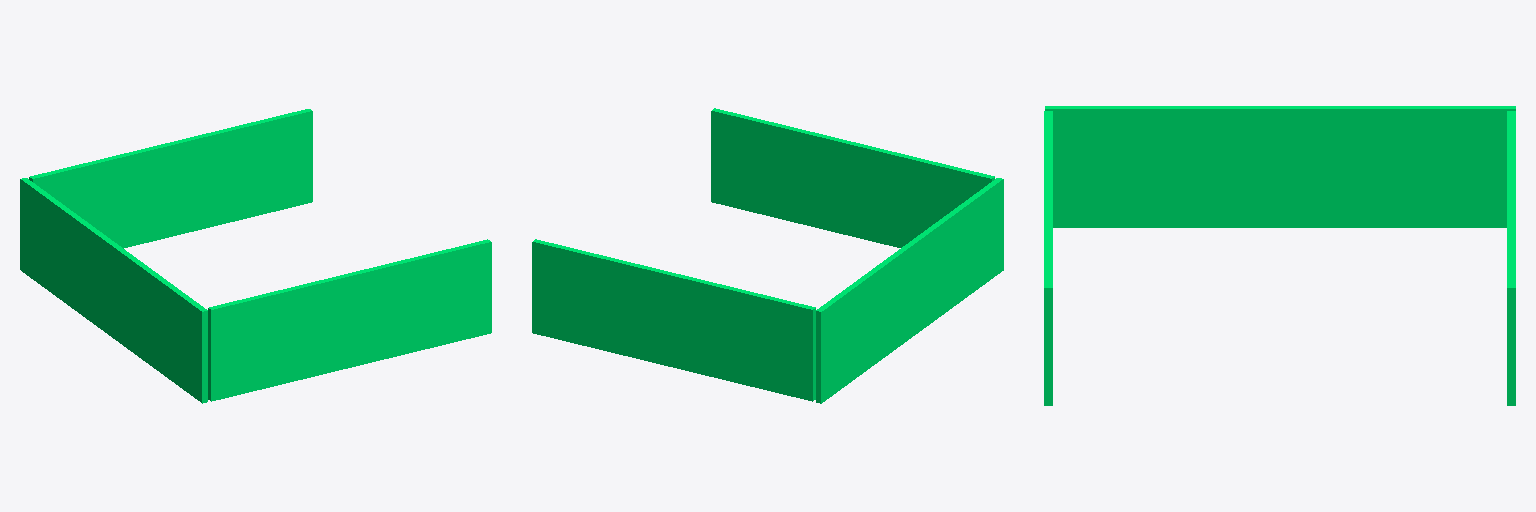
robot.urdf — wall1:
<?xml version="1.0" ?>
<robot name="wall1">
  <material name="neon_green"><color rgba="0 1 0.5 0.6"/></material>
  <link name="back">
    <inertial>
      <mass value="5.0" />
      <!-- center of mass (com) is defined w.r.t. link local coordinate system -->
      <origin xyz="0 0 0.1" /> 
      <inertia  ixx="0.1" ixy="0.0"  ixz="0.0"  iyy="0.1"  iyz="0.0"  izz="0.1" />
    </inertial>
    <visual>
      <!-- visual origin is defined w.r.t. link local coordinate system -->
      <origin xyz="-0.25 0 0" rpy="0 0 0" />
      <geometry>
        <box size="0.01 0.54 0.15"/>
      </geometry>
      <material name="neon_green"/>
    </visual>
    <collision>
      <!-- collision origin is defined w.r.t. link local coordinate system -->
      <origin xyz="-0.25 0 0" rpy="0 0 0" />
      <geometry>
        <box size="0.01 0.54 0.15"/>
      </geometry>
    </collision>
  </link>
  <link name="left">
    <inertial>
      <mass value="5.0" />
      <!-- center of mass (com) is defined w.r.t. link local coordinate system -->
      <origin xyz="0 0 0.1" /> 
      <inertia  ixx="0.1" ixy="0.0"  ixz="0.0"  iyy="0.1"  iyz="0.0"  izz="0.1" />
    </inertial>
    <visual>
      <!-- visual origin is defined w.r.t. link local coordinate system -->
      <origin xyz="0 -0.266 0" rpy="0 0 0" />
      <geometry>
        <box size="0.48 0.01 0.15"/>
      </geometry>
      <material name="neon_green"/>
    </visual>
    <collision>
      <!-- collision origin is defined w.r.t. link local coordinate system -->
      <origin xyz="0 -0.266 0" rpy="0 0 0" />
      <geometry>
        <box size="0.48 0.01 0.15"/>
      </geometry>
    </collision>
  </link>
  <link name="right">
    <inertial>
      <mass value="5.0" />
      <!-- center of mass (com) is defined w.r.t. link local coordinate system -->
      <origin xyz="0 0 0.1" /> 
      <inertia  ixx="0.1" ixy="0.0"  ixz="0.0"  iyy="0.1"  iyz="0.0"  izz="0.1" />
    </inertial>
    <visual>
      <!-- visual origin is defined w.r.t. link local coordinate system -->
      <origin xyz="0 0.265 0" rpy="0 0 0" />
      <geometry>
        <box size="0.48 0.01 0.15"/>
      </geometry>
      <material name="neon_green"/>
    </visual>
    <collision>
      <!-- collision origin is defined w.r.t. link local coordinate system -->
      <origin xyz="0 0.265 0" rpy="0 0 0" />
      <geometry>
        <box size="0.48 0.01 0.15"/>
      </geometry>
    </collision>
  </link>
  <joint name="left-back" type="fixed">
    <parent link="back"/>
    <child link="left"/>
    <origin xyz="0 0 0"/>
  </joint>
  <joint name="right-back" type="fixed">
    <parent link="back"/>
    <child link="right"/>
    <origin xyz="0 0 0"/>
  </joint>
</robot>

--- Facts derived from the render (not from the file) ---
Views: 3 orthographic renders of the robot side by side, from view 1: azimuth 30°, elevation 25°; view 2: azimuth 150°, elevation 25°; view 3: azimuth 270°, elevation 25°.
Model wall1 with 3 links and 2 joints (2 fixed), rooted at back, posed every joint at zero.
Links seen in each view (by area): view 1: left, right, back; view 2: right, left, back; view 3: back, left, right.
Link boxes in pixels (x1=…): left: x1=208, y1=239, x2=491, y2=401; right: x1=29, y1=109, x2=312, y2=248; back: x1=20, y1=178, x2=207, y2=403; right: x1=532, y1=239, x2=815, y2=401; left: x1=711, y1=108, x2=994, y2=247; back: x1=816, y1=178, x2=1003, y2=403; back: x1=1045, y1=106, x2=1515, y2=227; left: x1=1044, y1=111, x2=1052, y2=405; right: x1=1507, y1=111, x2=1515, y2=405.
Bounding box of the posed robot: 0.495 × 0.541 × 0.15 m (x, y, z).
Geometry: primitives only (box / cylinder / sphere), no mesh files.